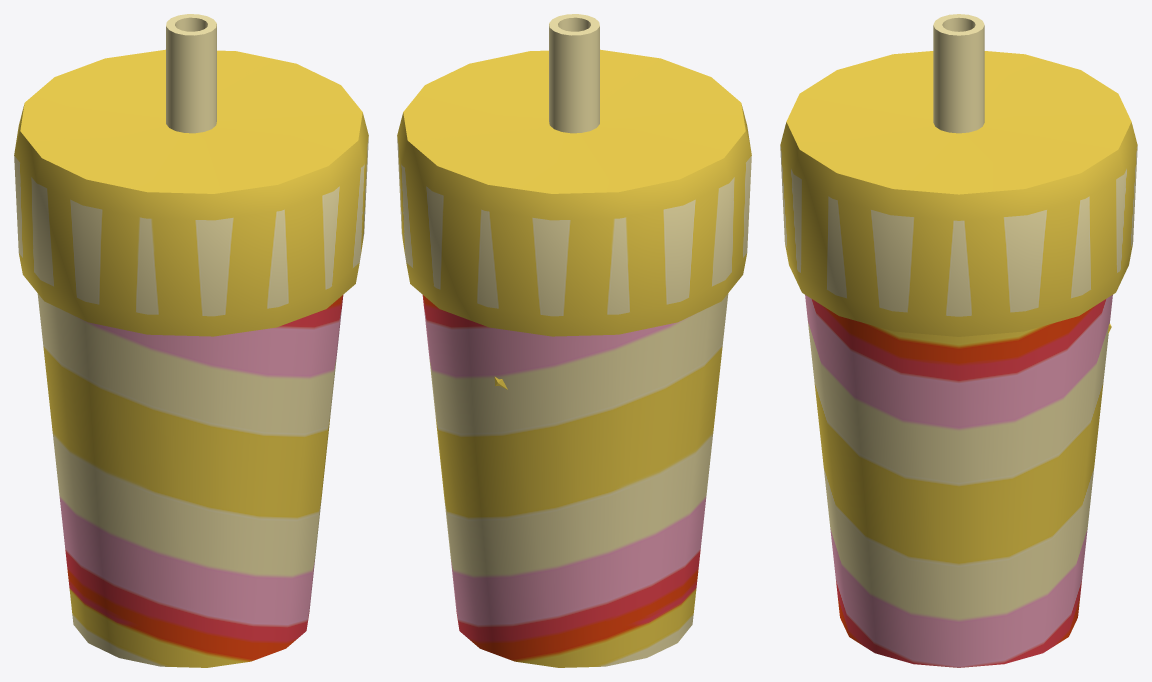
Rendered from M_bubbleTea_yellow.fbx.
3 renders of one model, left to right at view 1: azimuth 30°, elevation 25°; view 2: azimuth 150°, elevation 25°; view 3: azimuth 270°, elevation 25°, orthographic.
Parts seen in each view (by area): view 1: Cylinder.007; view 2: Cylinder.007; view 3: Cylinder.007.
Part boxes in pixels (x1,y1,x2,y2): Cylinder.007: (14, 14, 368, 667); Cylinder.007: (397, 14, 751, 667); Cylinder.007: (780, 14, 1137, 667).
Size of the model in its own units: 38.69 by 70.8 by 38.69.
